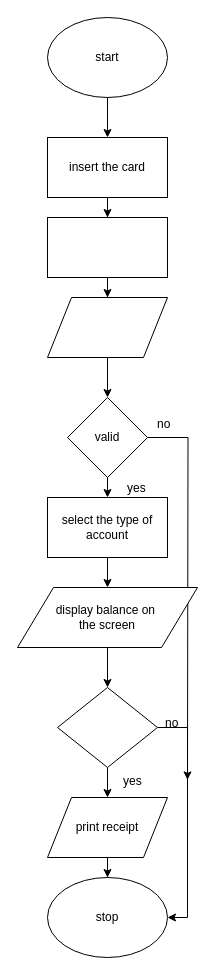
The diagram is 215 pixels wide and 975 high, and some of its shapes have lost their labels. The centre of each missing label's shape, as x and y in pixels:
enter the pin: [107,327]
select balance enquiry: [107,247]
want receipt: [107,727]
